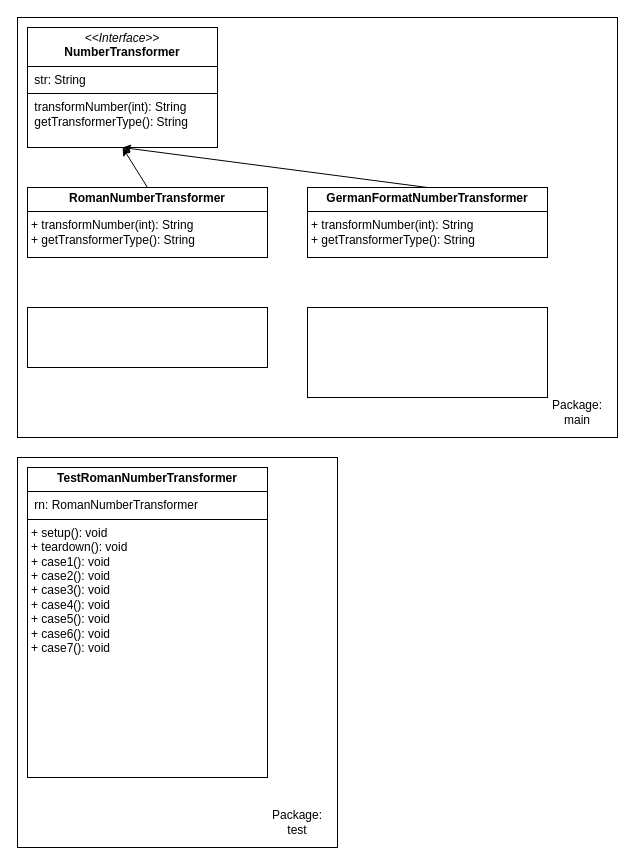
This 635x865 diagram has some shape labels left out. Each missing label, with the centre of its shape:
Client + printTransformation(int): void: point 147,337
Util + getRomanNumber(int): String: point 427,352
